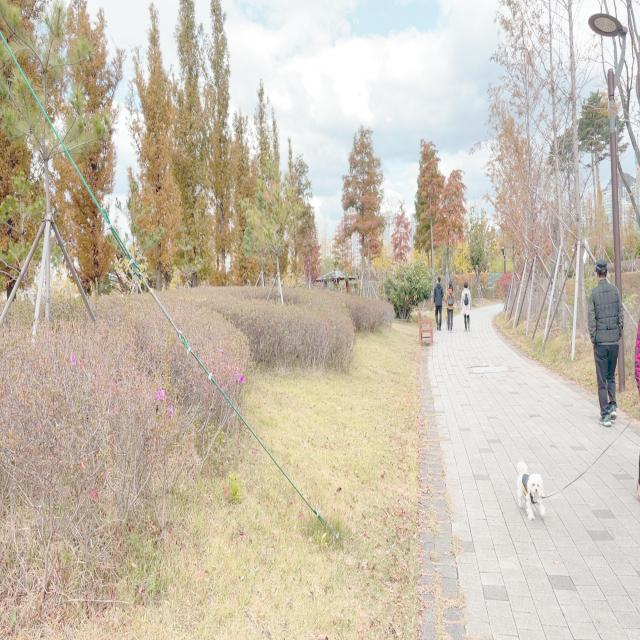Dog: (517, 461, 546, 522)
